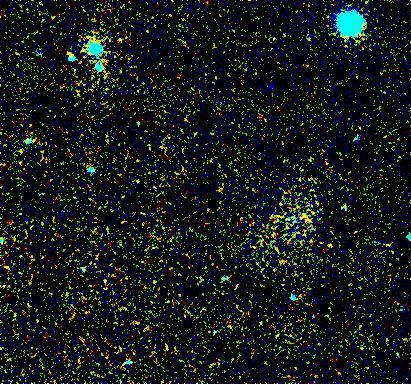star: (56, 39, 86, 69)
